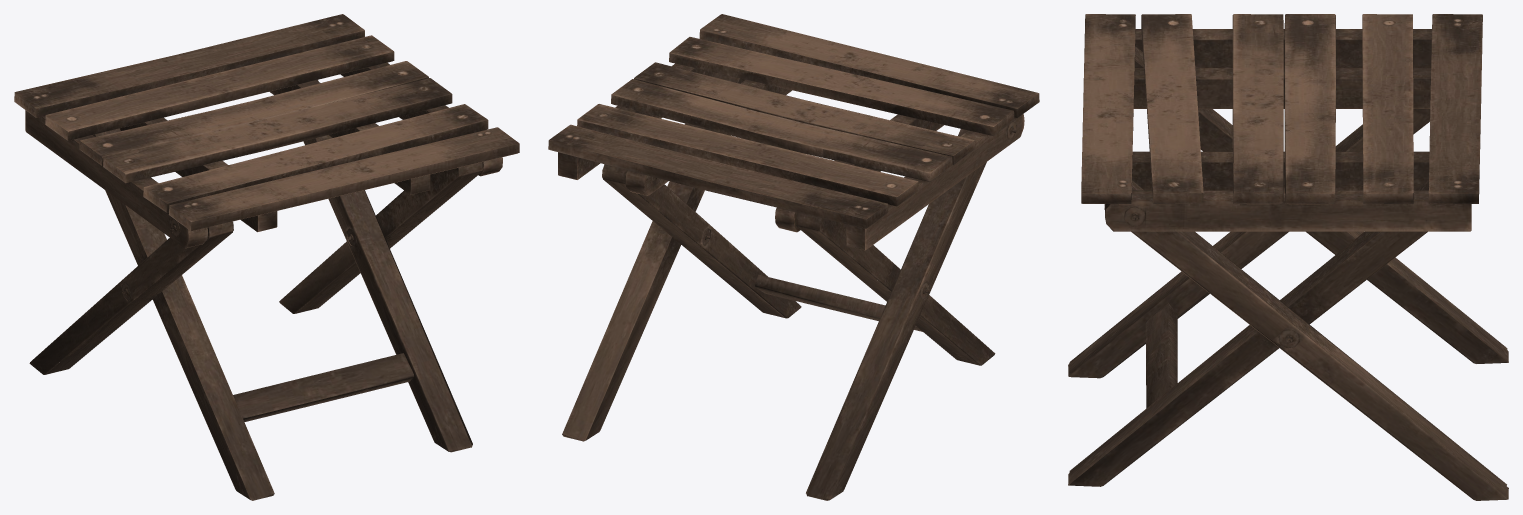
Rendered from ph_stool.gltf.
The picture shows the model from 3 angles, left to right: view 1: azimuth 30°, elevation 25°; view 2: azimuth 150°, elevation 25°; view 3: azimuth 270°, elevation 25°; orthographic projection. The views are drawn at different scales.
Visible parts, largest first — view 1: ph_stool; view 2: ph_stool; view 3: ph_stool.
Boxes of the visible parts, bbox=[...] form: ph_stool: bbox=[14, 14, 519, 500]; ph_stool: bbox=[548, 14, 1039, 500]; ph_stool: bbox=[1068, 14, 1508, 500].
Size of the model in its own units: 0.527 by 0.4407 by 0.5461.
1 material, 1 textured.
